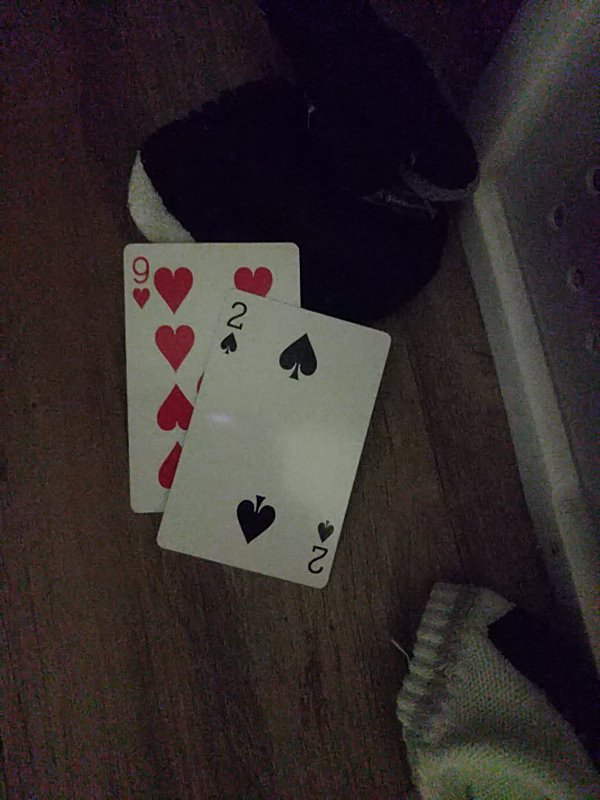Hearts: (124, 243, 301, 519)
Spades: (155, 289, 394, 591)
